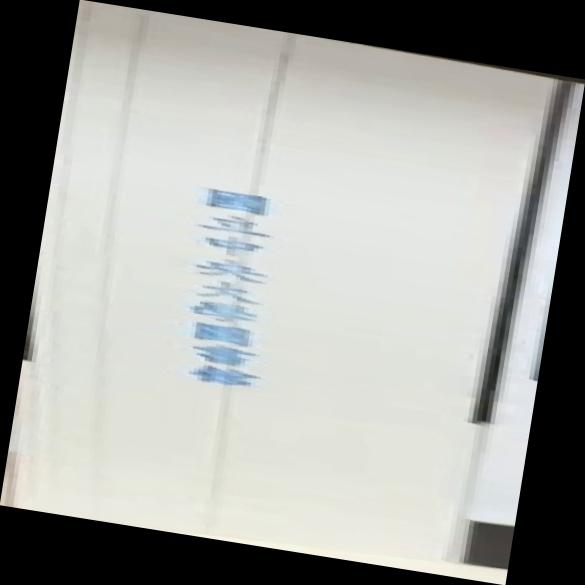backward: (3, 1, 585, 585)
